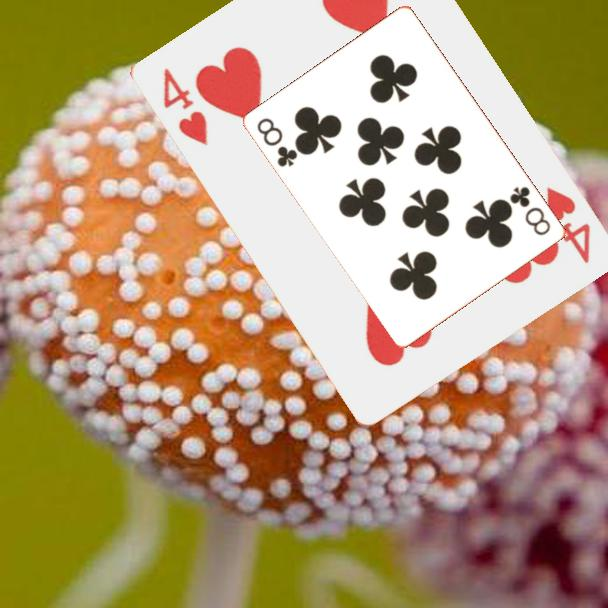c08: (506, 183, 554, 239), (254, 114, 301, 170)
h04: (160, 64, 212, 149), (543, 183, 594, 267)
